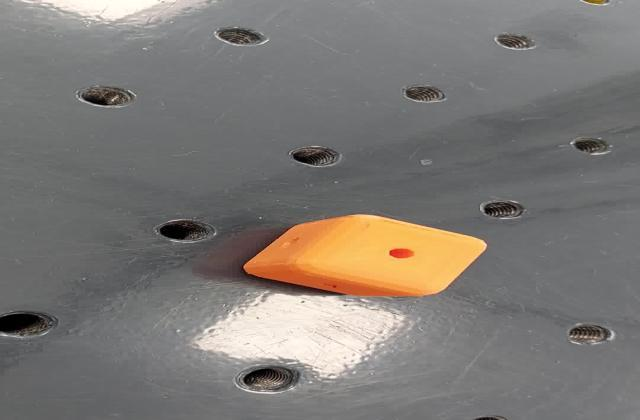cube: (237, 212, 501, 299)
